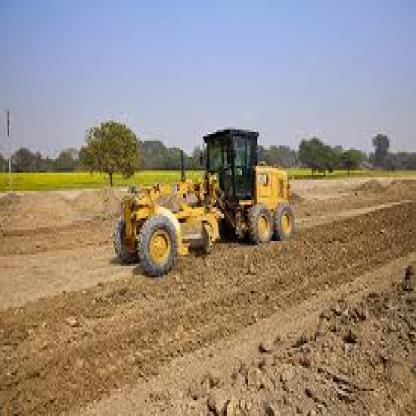bull_dozer/loader/grader: (96, 109, 314, 296)
